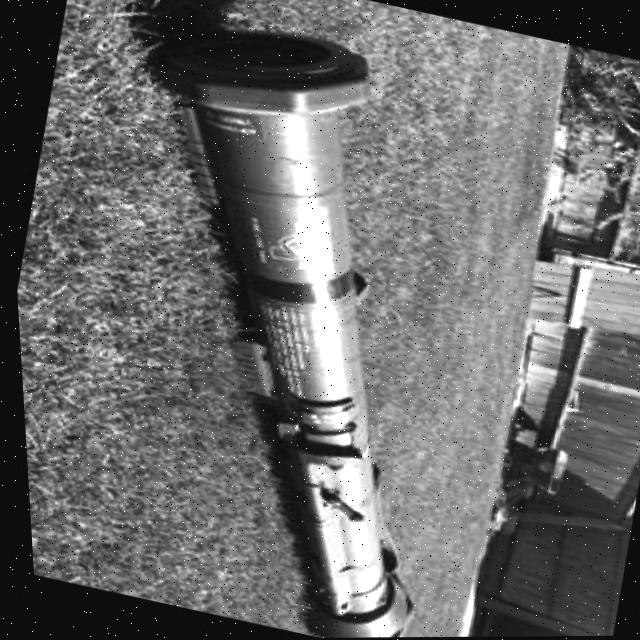rocket: (33, 0, 538, 640)
